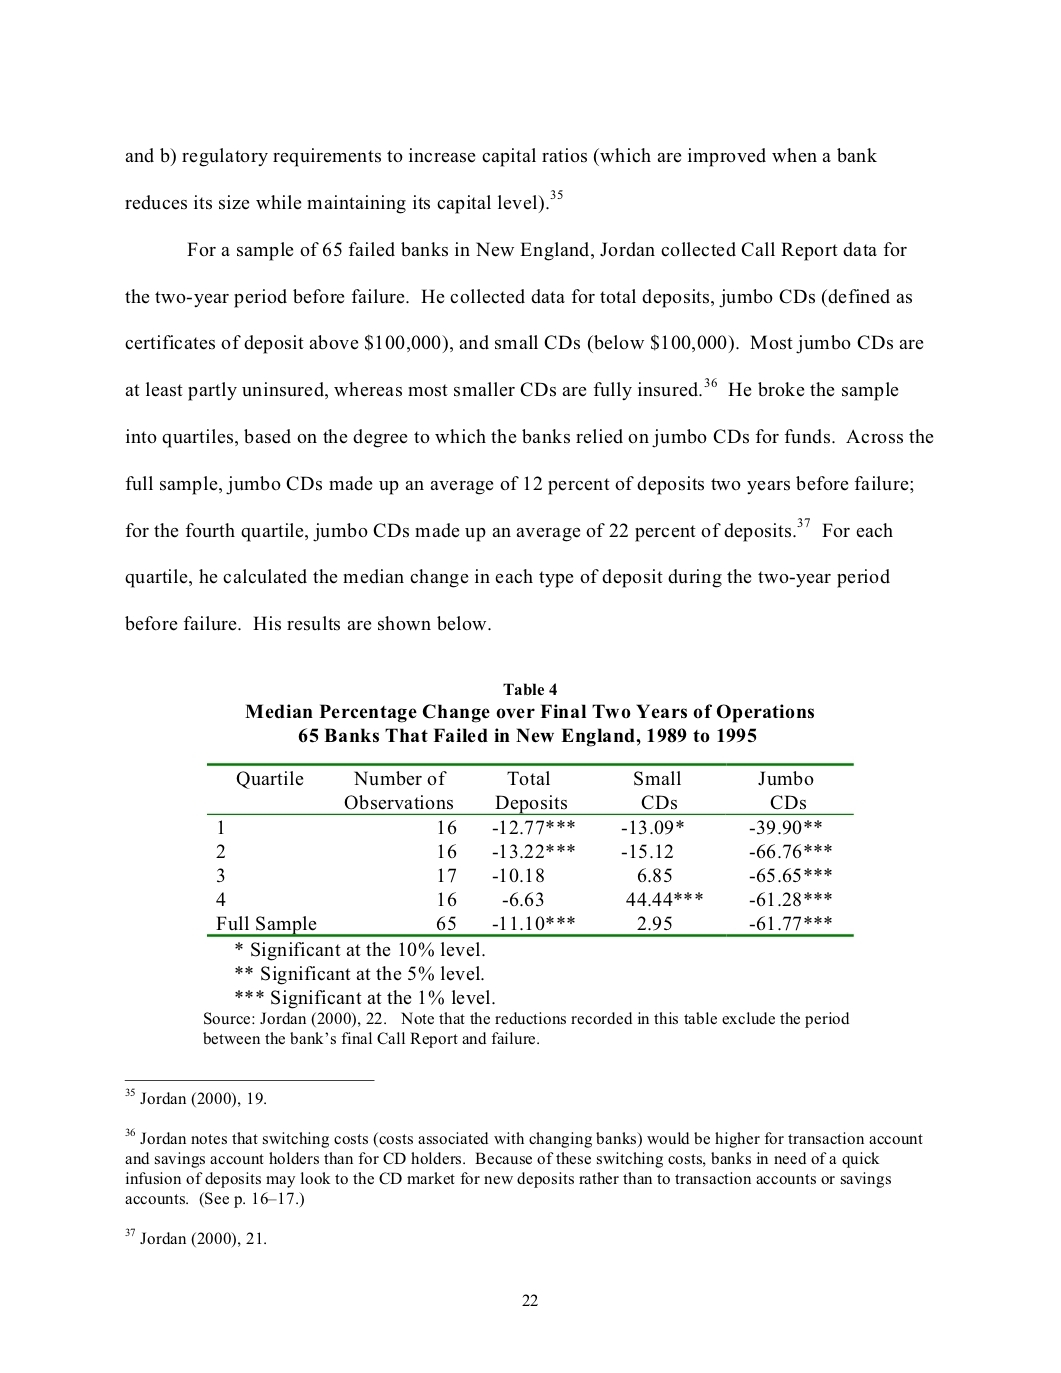Table: (206, 763, 853, 936)
